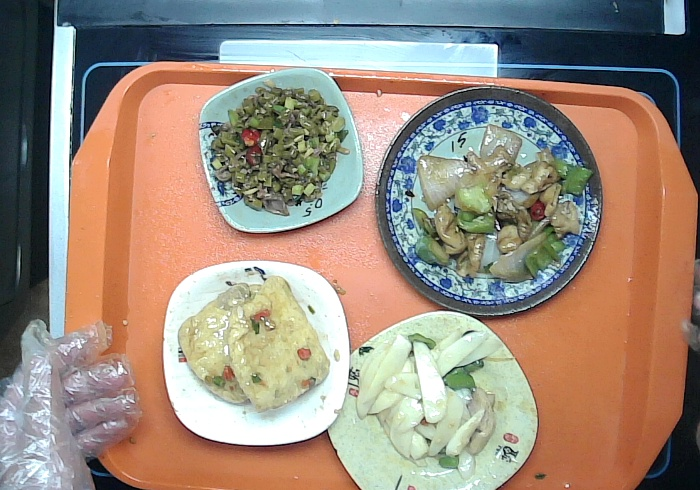NLDX-Bai_Se_Xiao_Fang_Die: (157, 256, 355, 450)
NLDX-Fu_Zi_Fang_Die: (323, 309, 538, 488)
NLDX-Qing_Hua_Xiao_Fang_Die: (193, 62, 367, 242)
NLDX-Qing_Hua_Yuan_Die: (369, 79, 607, 322)
